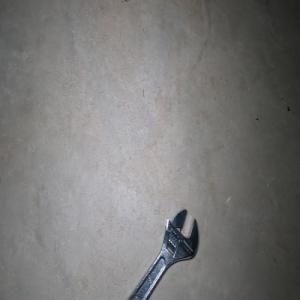Wrench: (127, 209, 198, 300)
